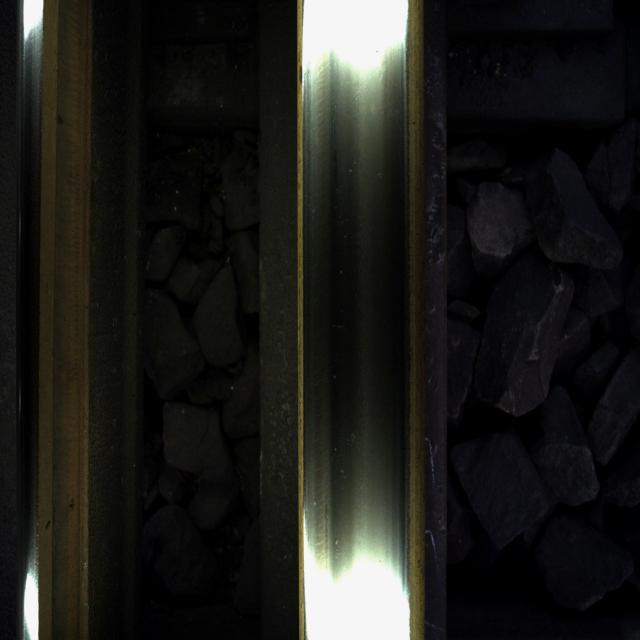break: (300, 20, 406, 618)
